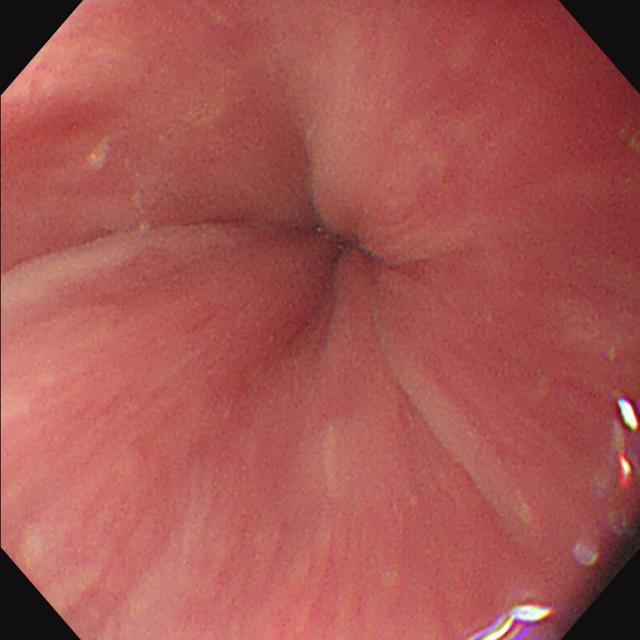I: (226, 112, 461, 375)
U: (471, 606, 554, 640), (616, 397, 637, 488)
